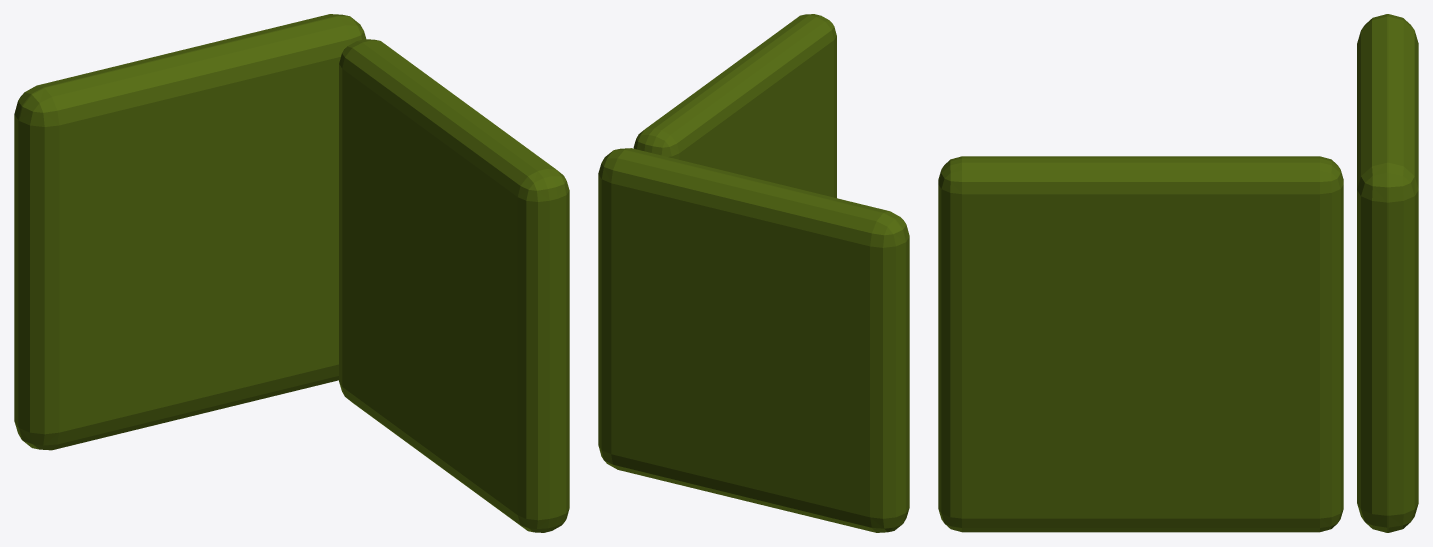
The model's file is green_chair_0_0.obj.
3 renders of one model, left to right at view 1: azimuth 30°, elevation 25°; view 2: azimuth 150°, elevation 25°; view 3: azimuth 270°, elevation 25°, orthographic. The views are drawn at different scales.
Bounding box in the file's own units: 0.46 × 0.46 × 0.545.
